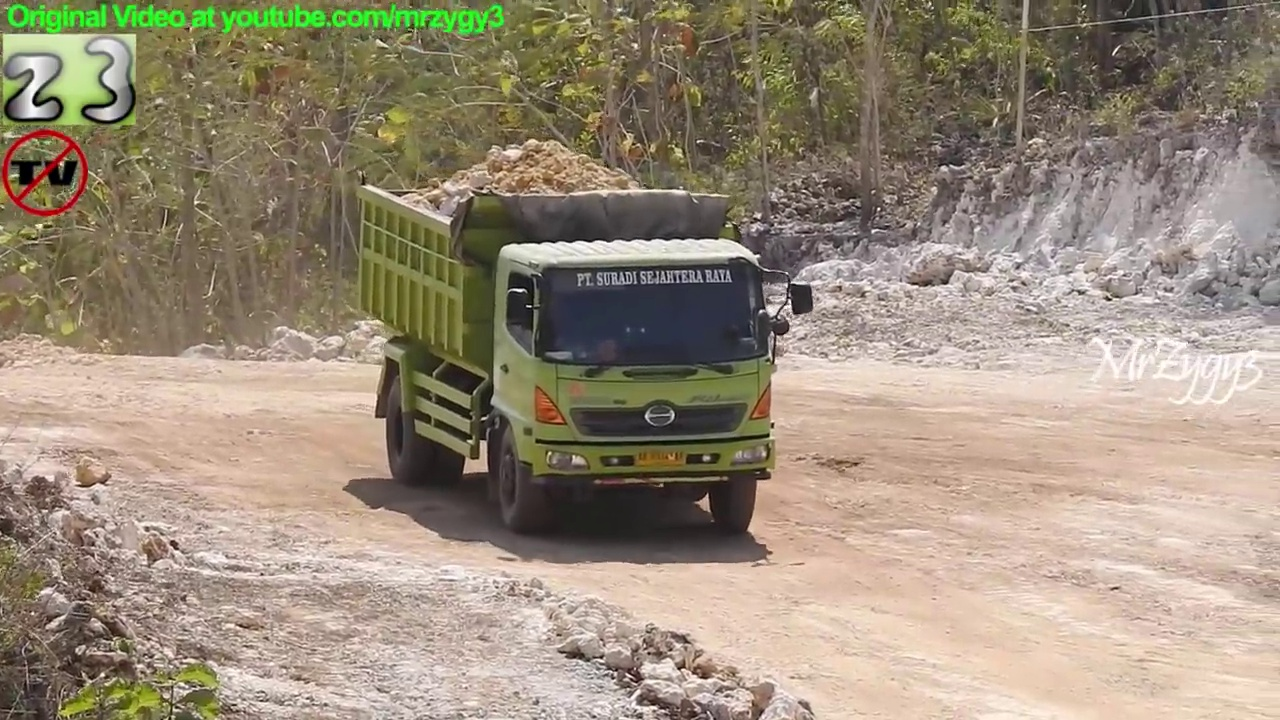truck: (347, 161, 822, 540)
